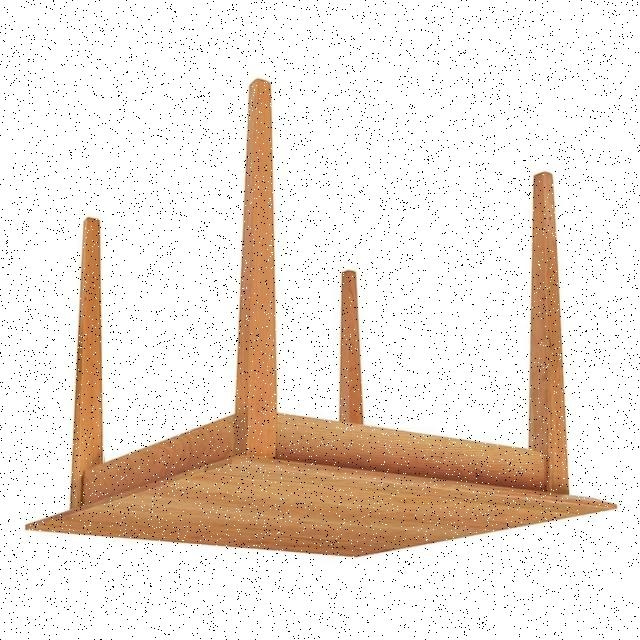mobile-phone: (22, 69, 624, 562)
